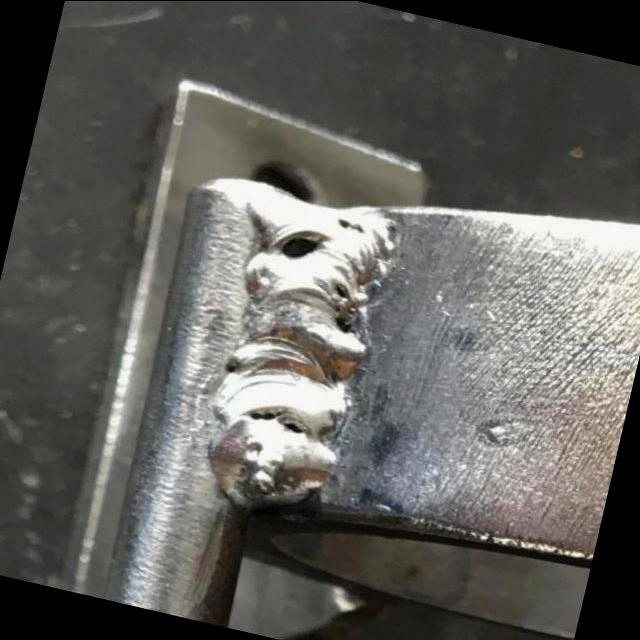defect: (271, 221, 338, 262), (320, 277, 360, 335), (247, 403, 310, 439), (223, 362, 242, 376)
